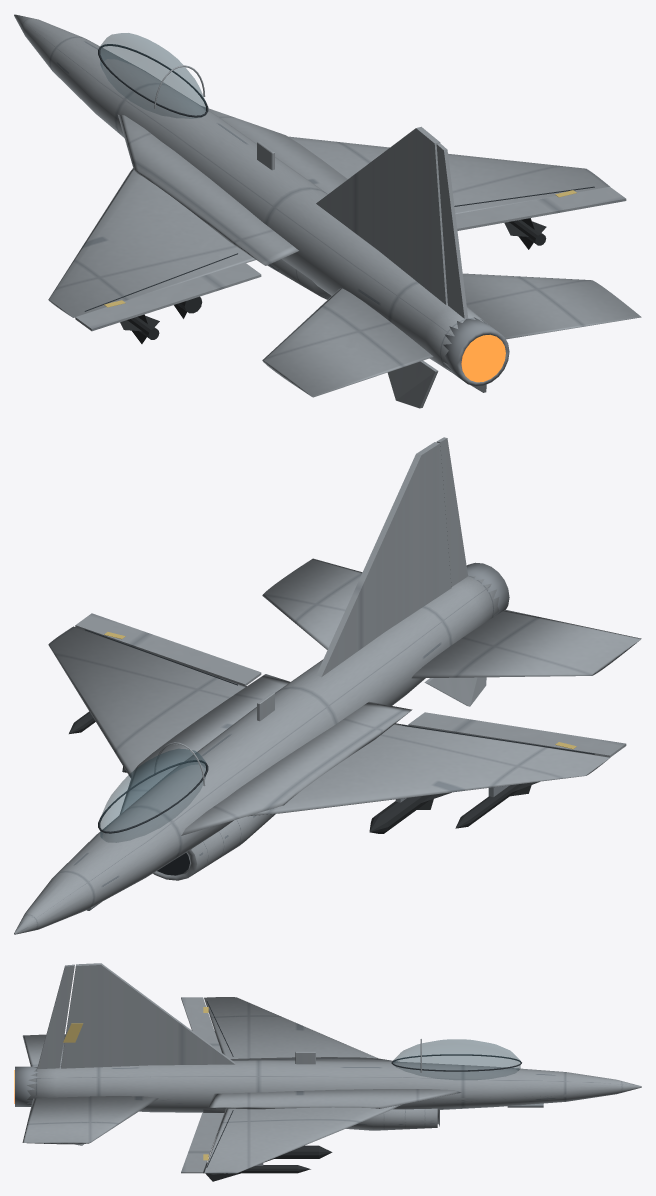
The model's file is wings_f16c.glb.
The picture shows the model from 3 angles, top to bottom: view 1: azimuth 30°, elevation 25°; view 2: azimuth 150°, elevation 25°; view 3: azimuth 270°, elevation 25°; orthographic projection. The views are drawn at different scales.
Visible parts, largest first — view 1: airframe_static, tailplane_L, tailplane_R, canopy, flaperon_L, flaperon_R, rudder_1, afterburner, missile_R2, missile_L2; view 2: airframe_static, tailplane_L, canopy, tailplane_R, flaperon_R, flaperon_L, rudder_1, missile_L1, missile_L2; view 3: airframe_static, tailplane_R, canopy, rudder_1, flaperon_R, flaperon_L, missile_R2, tailplane_L, missile_R1.
Boxes of the visible parts, x1,y1,x2,y2 form: airframe_static: [14, 14, 609, 408]; tailplane_L: [262, 288, 433, 397]; tailplane_R: [463, 273, 641, 339]; canopy: [100, 33, 205, 118]; flaperon_L: [75, 262, 261, 331]; flaperon_R: [455, 186, 626, 230]; rudder_1: [436, 143, 467, 318]; afterburner: [461, 334, 505, 382]; missile_R2: [504, 218, 546, 249]; missile_L2: [120, 314, 159, 343]; airframe_static: [14, 442, 610, 934]; tailplane_L: [412, 609, 641, 678]; canopy: [100, 748, 205, 842]; tailplane_R: [262, 558, 362, 649]; flaperon_R: [75, 613, 261, 685]; flaperon_L: [408, 712, 626, 757]; rudder_1: [436, 437, 467, 586]; missile_L1: [369, 792, 451, 833]; missile_L2: [455, 781, 539, 828]; airframe_static: [15, 963, 641, 1173]; tailplane_R: [22, 1096, 158, 1144]; canopy: [393, 1039, 520, 1079]; rudder_1: [37, 964, 74, 1068]; flaperon_R: [181, 1113, 224, 1173]; flaperon_L: [181, 997, 221, 1052]; missile_R2: [203, 1162, 310, 1181]; tailplane_L: [22, 1034, 65, 1066]; missile_R1: [263, 1145, 332, 1162].
Bounding box in the file's own units: 9.8 × 4.42 × 14.82.
Materials: 7 (1 with a texture image).
